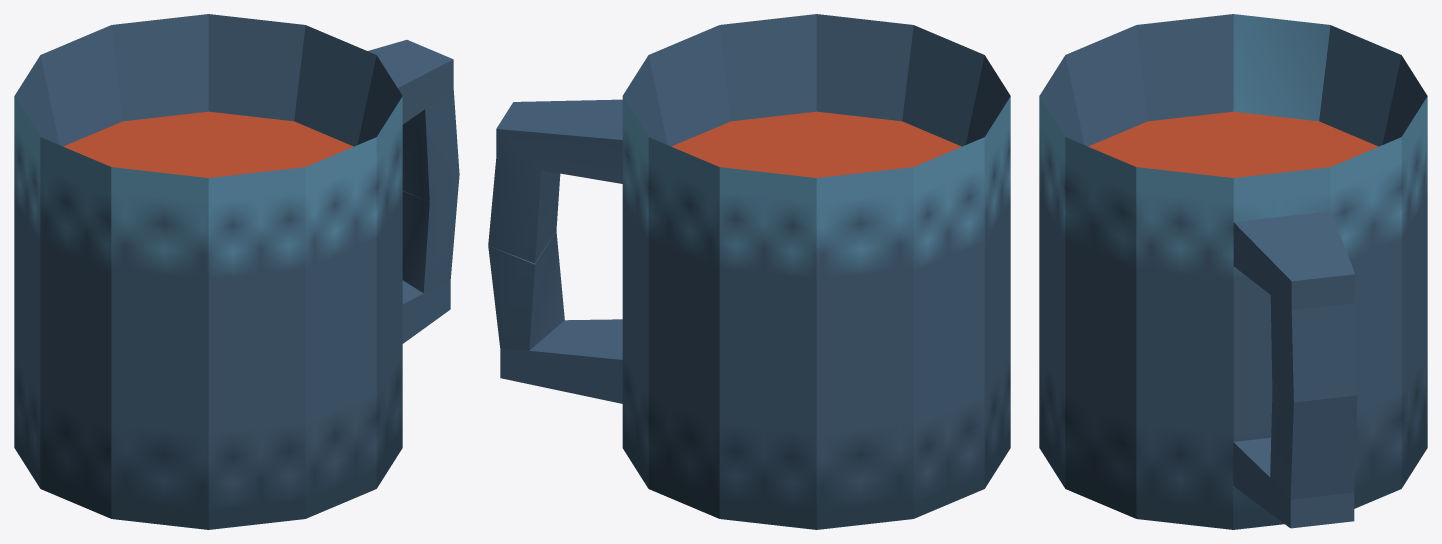
File: mug.fbx
3 renders of one model, left to right at view 1: azimuth 30°, elevation 25°; view 2: azimuth 150°, elevation 25°; view 3: azimuth 270°, elevation 25°, orthographic.
Visible parts, largest first — view 1: cup; view 2: cup; view 3: cup.
Boxes of the visible parts, x1,y1,x2,y2 form: cup: (14,14,459,529); cup: (488,14,1010,529); cup: (1039,14,1427,529).
Size of the model in its own units: 32.07 by 24 by 24.
1 material, 1 textured.
